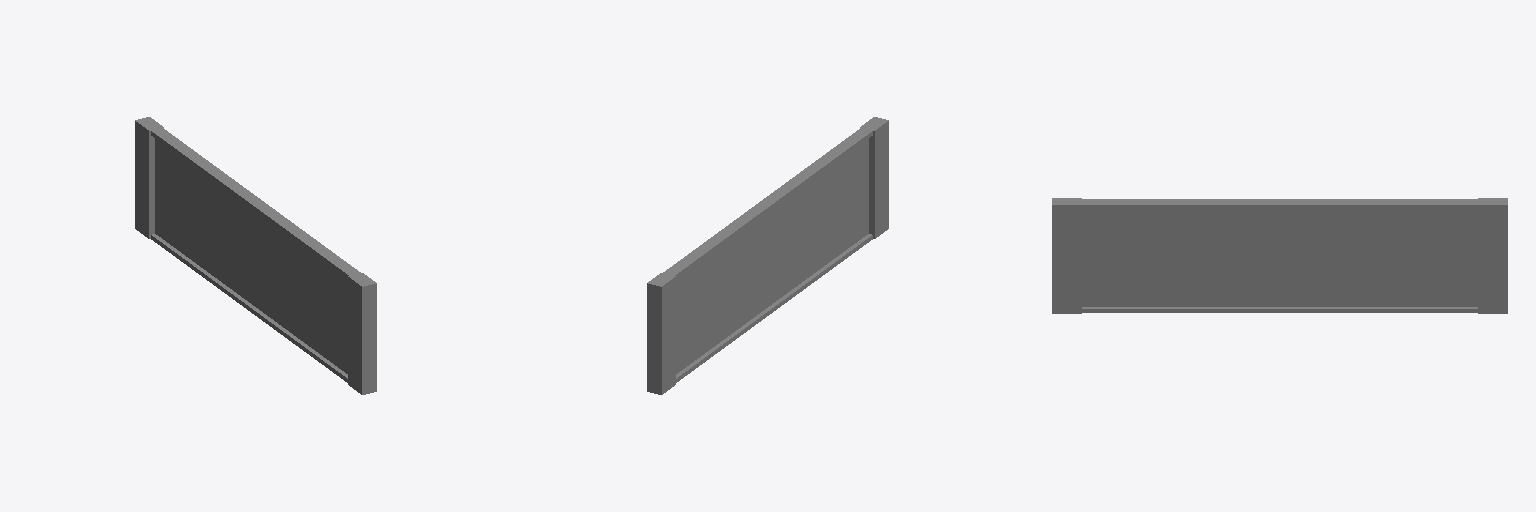
File: Terrace_top_doorframe.obj
The picture shows the model from 3 angles: view 1: azimuth 30°, elevation 25°; view 2: azimuth 150°, elevation 25°; view 3: azimuth 270°, elevation 25°; orthographic projection.
Parts seen in each view (by area): view 1: ??????; view 2: ??????; view 3: ??????.
Part boxes in pixels (x1,y1,x2,y2): ??????: (135,117,376,394); ??????: (647,117,888,394); ??????: (1052,198,1507,313).
Bounding box in the file's own units: 0.0902 × 0.6291 × 2.39.